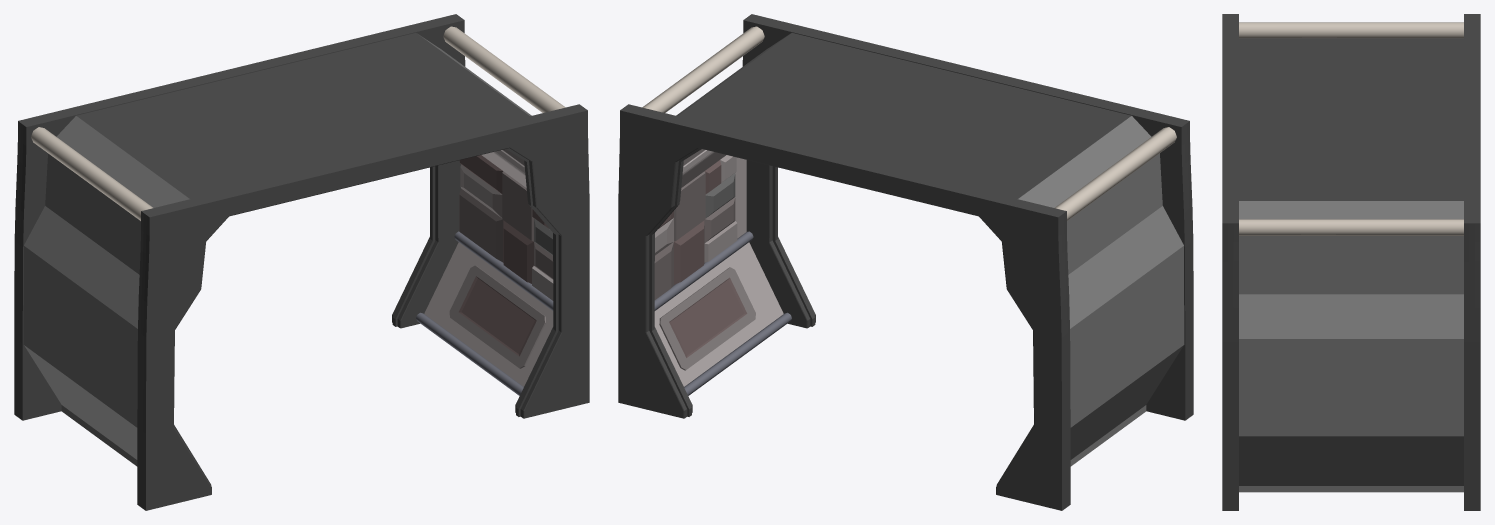
Rendered from Hallway_Module_StraightHalf_01.glb.
The picture shows the model from 3 angles, left to right: view 1: azimuth 30°, elevation 25°; view 2: azimuth 150°, elevation 25°; view 3: azimuth 270°, elevation 25°; orthographic projection. The views are drawn at different scales.
Parts seen in each view (by area): view 1: Hallway_Module_StraightHalf_01; view 2: Hallway_Module_StraightHalf_01; view 3: Hallway_Module_StraightHalf_01.
Part boxes in pixels (x1,y1,x2,y2): Hallway_Module_StraightHalf_01: (14,14,589,510); Hallway_Module_StraightHalf_01: (618,14,1193,510); Hallway_Module_StraightHalf_01: (1222,14,1480,510).
Size of what is drawn, in the model's own units: 6.03 by 3.82 by 3.1.
Materials: 1 (1 with a texture image).
